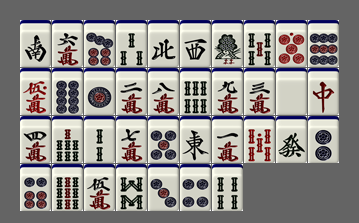0m: (20, 68, 51, 115)
0p: (276, 20, 307, 67)
0s: (244, 116, 275, 163)
1m: (212, 116, 243, 163)
1p: (84, 68, 115, 115)
1s: (212, 20, 243, 67)
1z: (180, 116, 211, 163)
2m: (116, 68, 147, 115)
2p: (308, 116, 339, 163)
2s: (84, 116, 115, 163)
2z: (20, 20, 51, 67)
3m: (244, 68, 275, 115)
3p: (148, 164, 179, 211)
3s: (116, 20, 147, 67)
3z: (180, 20, 211, 67)
4m: (20, 116, 51, 163)
4p: (180, 164, 211, 211)
4s: (212, 164, 243, 211)
4z: (148, 20, 179, 67)
5m: (84, 164, 115, 211)
5p: (148, 116, 179, 163)
5s: (244, 20, 275, 67)
5z: (276, 68, 307, 115)
6m: (52, 20, 83, 67)
6p: (20, 164, 51, 211)
6s: (180, 68, 211, 115)
6z: (276, 116, 307, 163)
7m: (116, 116, 147, 163)
7p: (84, 20, 115, 67)
7s: (52, 116, 83, 163)
7z: (308, 68, 339, 115)
8m: (148, 68, 179, 115)
8p: (52, 68, 83, 115)
8s: (116, 164, 147, 211)
9m: (212, 68, 243, 115)
9p: (308, 20, 339, 67)
9s: (52, 164, 83, 211)
